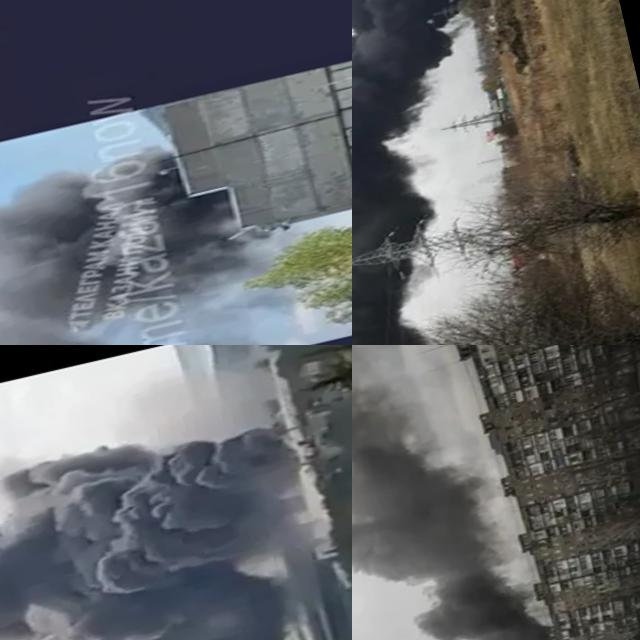smoke: (0, 403, 339, 640), (352, 0, 574, 345), (352, 402, 575, 640), (0, 141, 228, 345)
